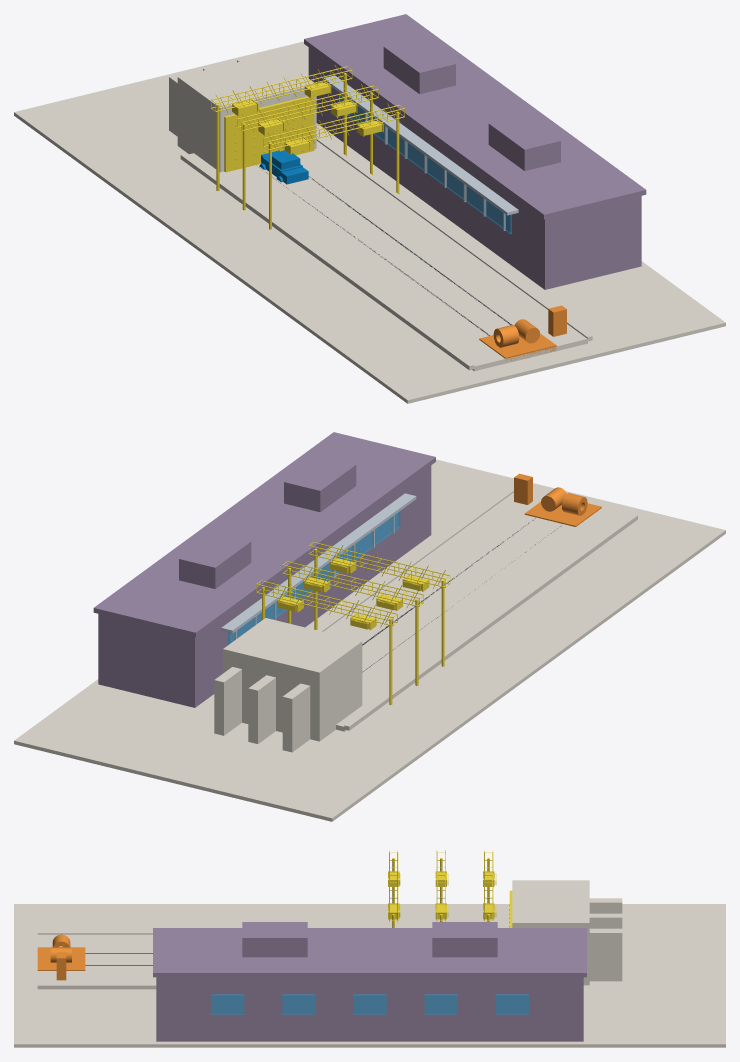
The model's file is hq_13_safety_l1.glb.
3 views of the same model, one above another, from view 1: azimuth 30°, elevation 25°; view 2: azimuth 150°, elevation 25°; view 3: azimuth 270°, elevation 25° (orthographic). The views are drawn at different scales.
Parts seen in each view (by area): view 1: GEO_Safety_Foundation_Plinth, GEO_Safety_Telemetry_Office_Halls, GEO_Safety_Crash_Runway_Hall, GEO_Safety_Rigid_Impact_Barrier, GEO_Safety_Photogrammetry_Lighting_Truss, GEO_Safety_Barrier_Hazard_Face, GEO_Safety_Observation_Mullions, GEO_Safety_Runway_Tow_Winch, GEO_Safety_Observation_Glass, GEO_Safety_Crash_Test_Vehicle, GEO_Safety_Guide_Rails_Trench; view 2: GEO_Safety_Foundation_Plinth, GEO_Safety_Telemetry_Office_Halls, GEO_Safety_Crash_Runway_Hall, GEO_Safety_Rigid_Impact_Barrier, GEO_Safety_Photogrammetry_Lighting_Truss, GEO_Safety_Observation_Mullions, GEO_Safety_Runway_Tow_Winch, GEO_Safety_Observation_Glass; view 3: GEO_Safety_Telemetry_Office_Halls, GEO_Safety_Foundation_Plinth, GEO_Safety_Rigid_Impact_Barrier, GEO_Safety_Crash_Runway_Hall, GEO_Safety_Observation_Glass, GEO_Safety_Photogrammetry_Lighting_Truss, GEO_Safety_Runway_Tow_Winch.
Boxes of the visible parts, x1,y1,x2,y2 form: GEO_Safety_Foundation_Plinth: [14, 41, 725, 403]; GEO_Safety_Telemetry_Office_Halls: [304, 14, 646, 289]; GEO_Safety_Crash_Runway_Hall: [180, 134, 592, 371]; GEO_Safety_Rigid_Impact_Barrier: [169, 53, 316, 172]; GEO_Safety_Photogrammetry_Lighting_Truss: [211, 65, 404, 229]; GEO_Safety_Barrier_Hazard_Face: [224, 96, 314, 172]; GEO_Safety_Observation_Mullions: [323, 75, 518, 230]; GEO_Safety_Runway_Tow_Winch: [479, 305, 566, 360]; GEO_Safety_Observation_Glass: [340, 94, 511, 233]; GEO_Safety_Crash_Test_Vehicle: [259, 150, 308, 184]; GEO_Safety_Guide_Rails_Trench: [256, 165, 511, 335]; GEO_Safety_Foundation_Plinth: [14, 459, 725, 821]; GEO_Safety_Telemetry_Office_Halls: [93, 432, 435, 707]; GEO_Safety_Crash_Runway_Hall: [317, 486, 637, 731]; GEO_Safety_Rigid_Impact_Barrier: [214, 618, 362, 752]; GEO_Safety_Photogrammetry_Lighting_Truss: [256, 541, 450, 705]; GEO_Safety_Observation_Mullions: [221, 493, 416, 640]; GEO_Safety_Runway_Tow_Winch: [514, 473, 601, 526]; GEO_Safety_Observation_Glass: [228, 511, 400, 644]; GEO_Safety_Telemetry_Office_Halls: [153, 922, 586, 1041]; GEO_Safety_Foundation_Plinth: [14, 904, 725, 1047]; GEO_Safety_Rigid_Impact_Barrier: [512, 880, 622, 985]; GEO_Safety_Crash_Runway_Hall: [37, 931, 156, 989]; GEO_Safety_Observation_Glass: [211, 994, 528, 1014]; GEO_Safety_Photogrammetry_Lighting_Truss: [388, 850, 496, 927]; GEO_Safety_Runway_Tow_Winch: [37, 934, 85, 980].
Size of what is drawn, in the model's own units: 28 by 8.6 by 60.
